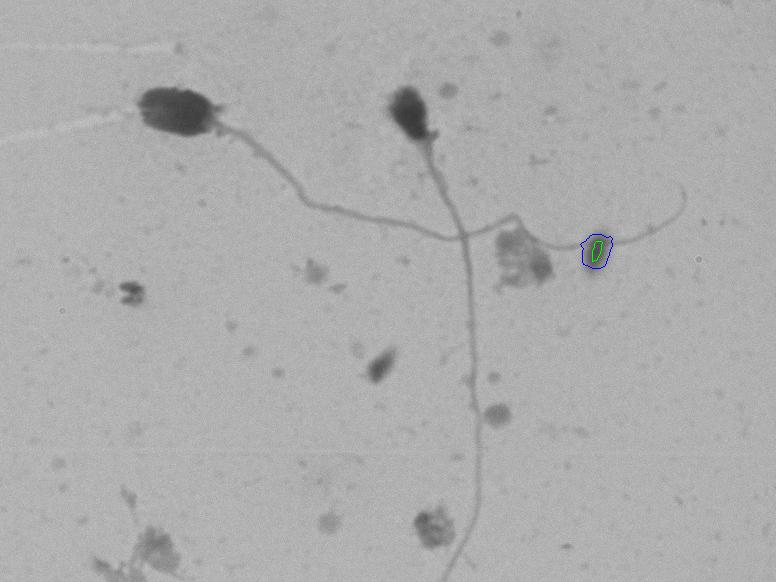Abnormal: (383, 56, 495, 553), (74, 69, 349, 225)
